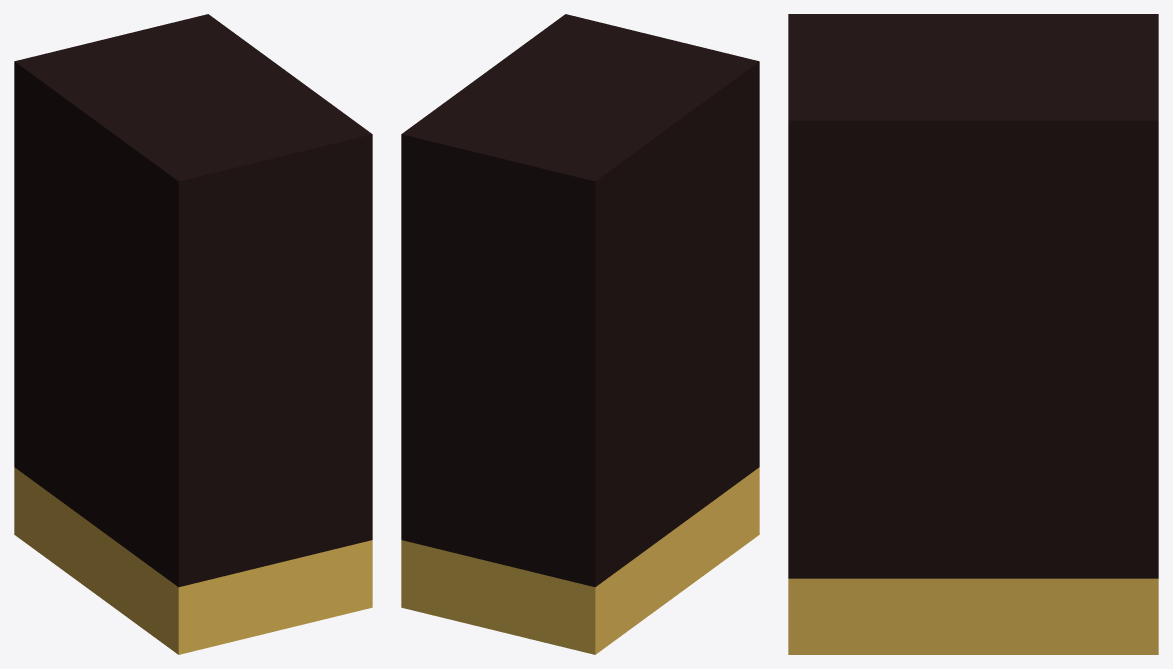
Rendered from seller-3.obj.
The picture shows the model from 3 angles, left to right: view 1: azimuth 30°, elevation 25°; view 2: azimuth 150°, elevation 25°; view 3: azimuth 270°, elevation 25°; orthographic projection. The views are drawn at different scales.
Size of the model in its own units: 1.5 by 3.5 by 2.2.
1 material, 1 textured.
